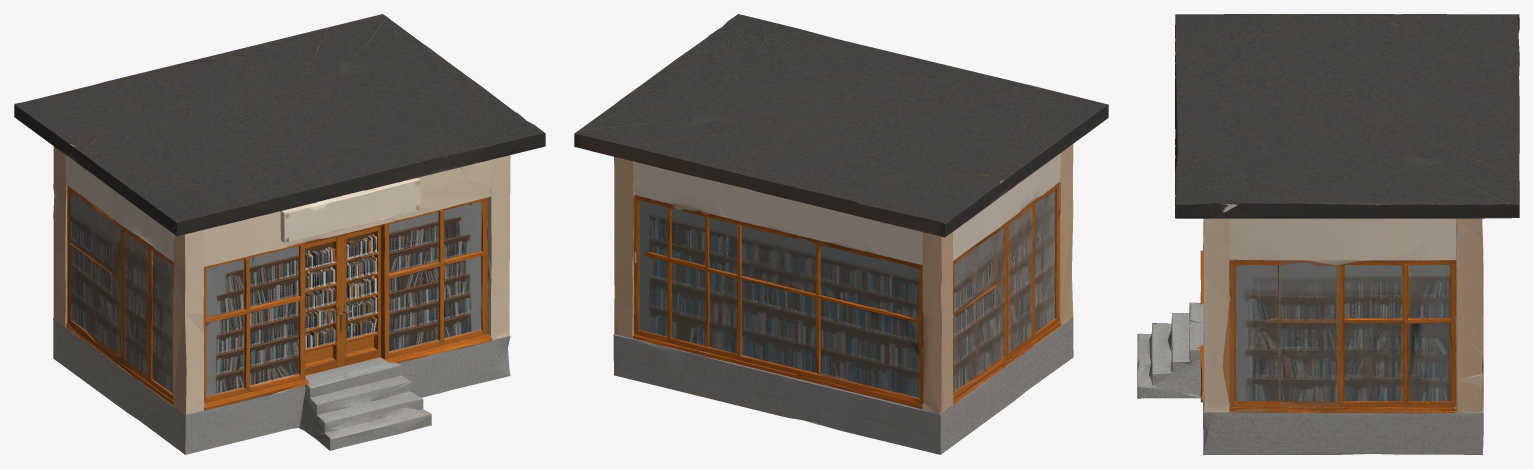
Rendered from library-pavilion.glb.
3 renders of one model, left to right at view 1: azimuth 30°, elevation 25°; view 2: azimuth 150°, elevation 25°; view 3: azimuth 270°, elevation 25°, orthographic. The views are drawn at different scales.
Size of the model in its own units: 1.9 by 1.22 by 1.61.
Materials: 1 (1 with a texture image).
